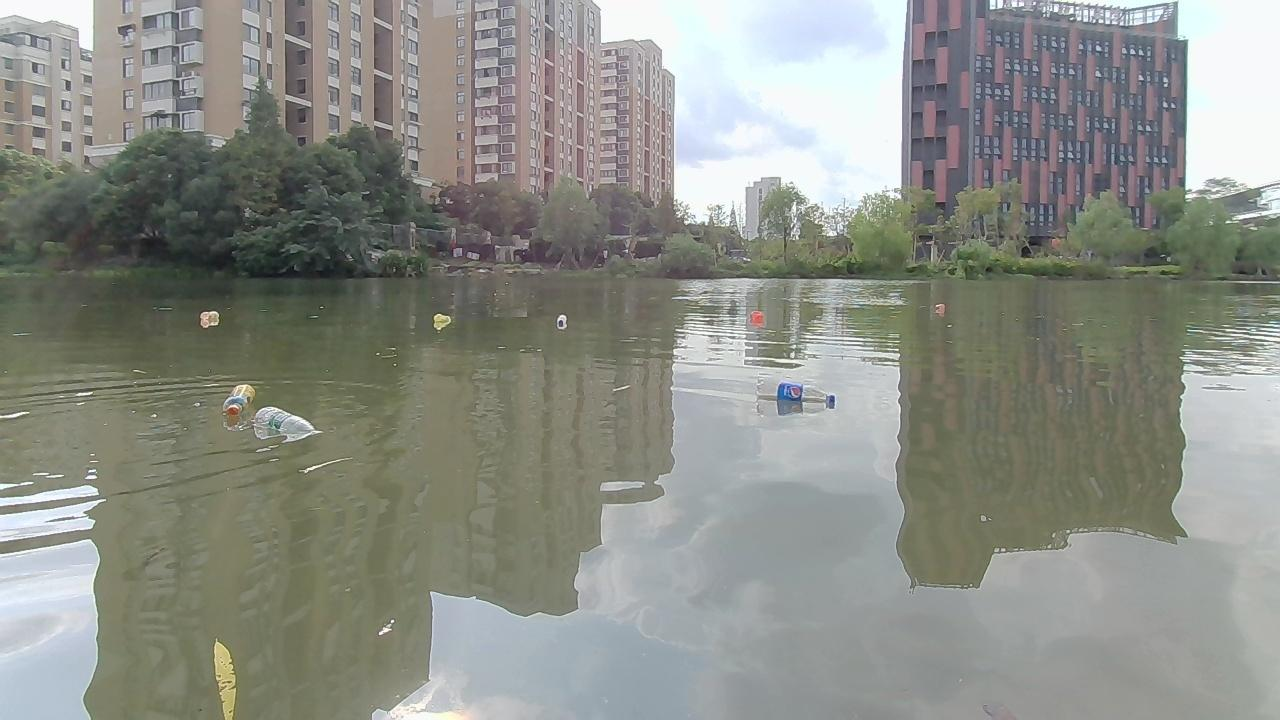bottle: (754, 371, 832, 407), (253, 405, 314, 439), (221, 382, 256, 422), (741, 304, 768, 322), (195, 307, 220, 326), (427, 311, 453, 326), (931, 299, 951, 315), (551, 314, 569, 328)
